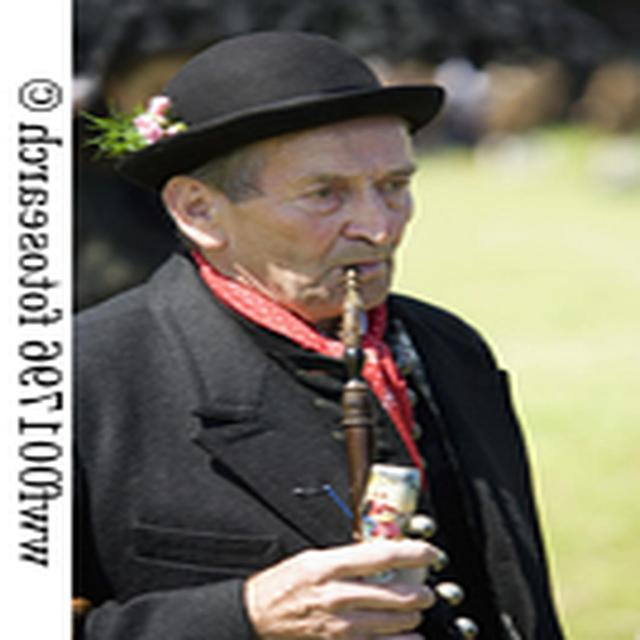smoking: (152, 56, 480, 623)
